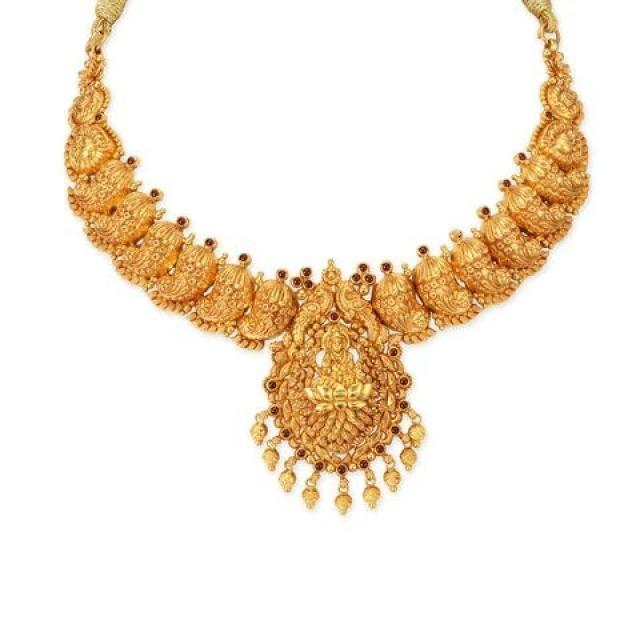missing gem: (274, 352, 287, 364), (451, 230, 462, 240)
